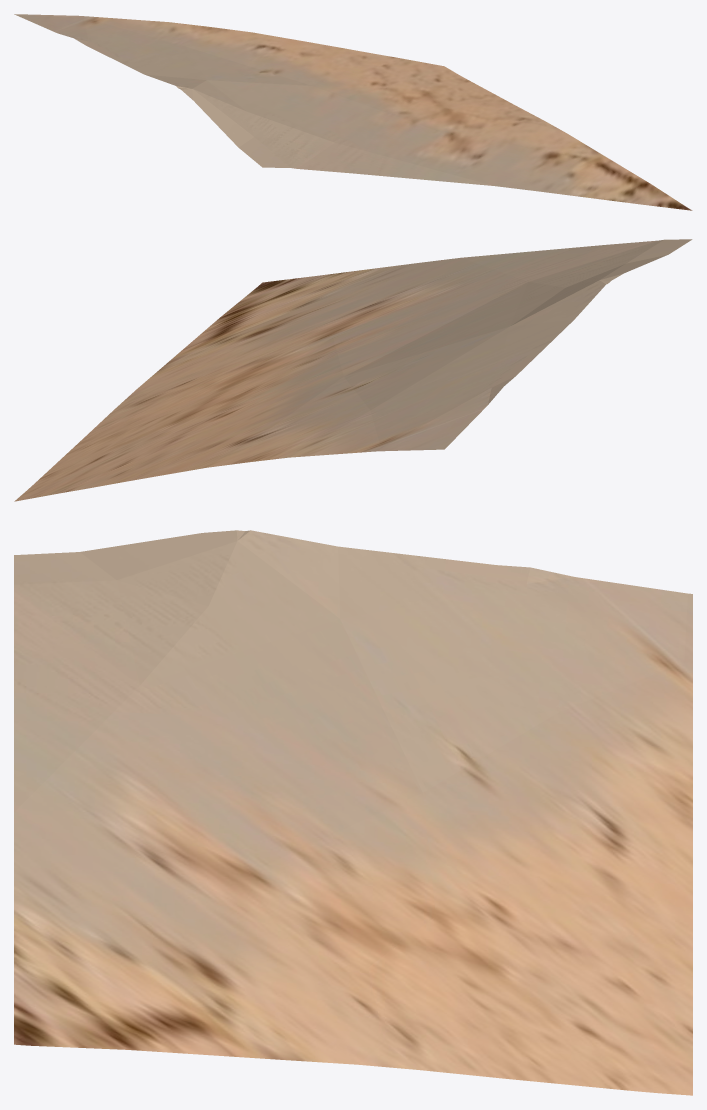
3 renders of one model, top to bottom at view 1: azimuth 30°, elevation 25°; view 2: azimuth 150°, elevation 25°; view 3: azimuth 270°, elevation 25°, orthographic. The views are drawn at different scales.
Bounding box in the file's own units: 1.04 × 0.4725 × 1.04.
2 materials, 2 textured.
